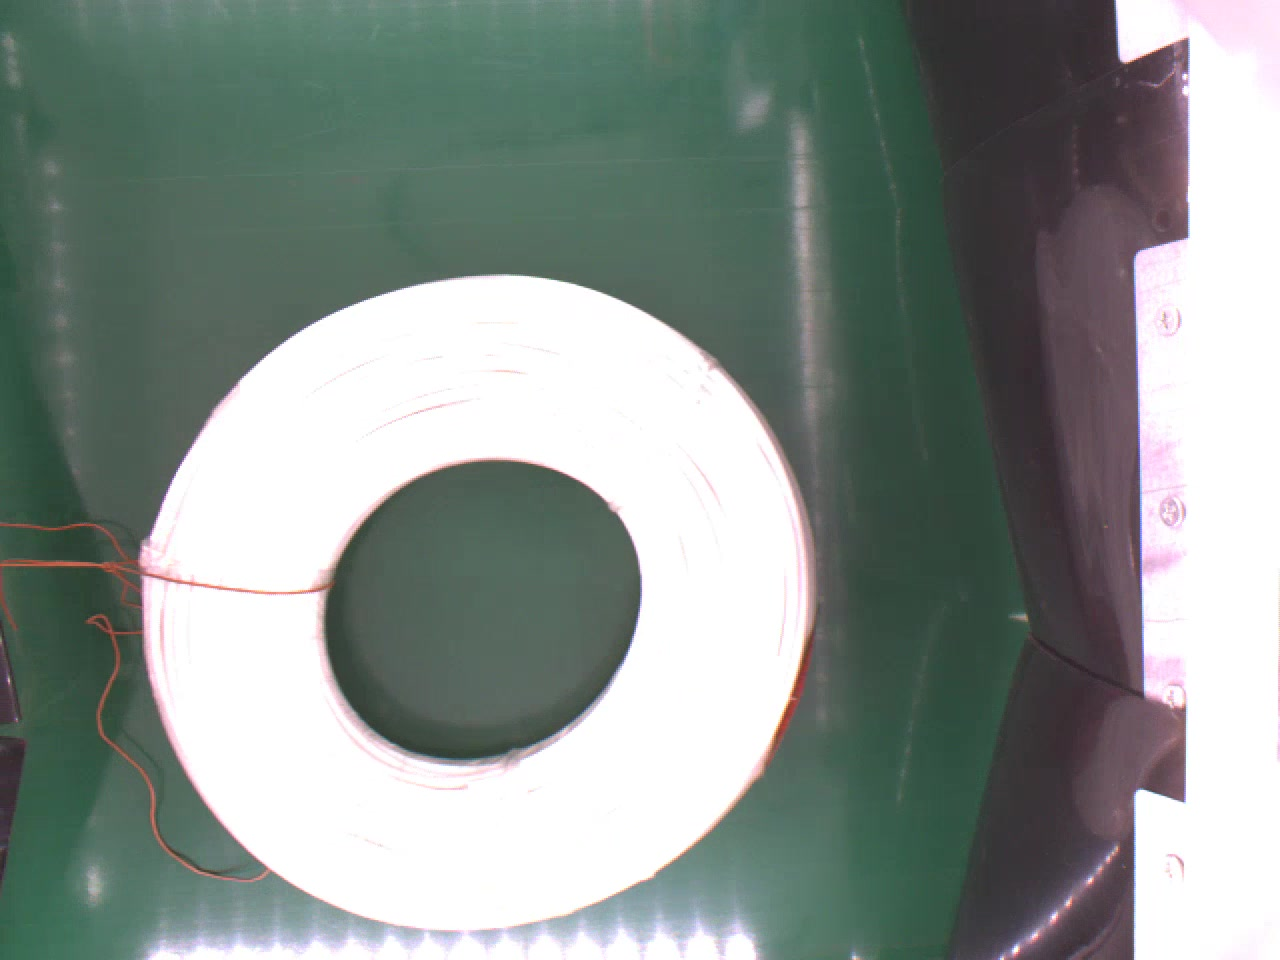white: (140, 270, 813, 940)
